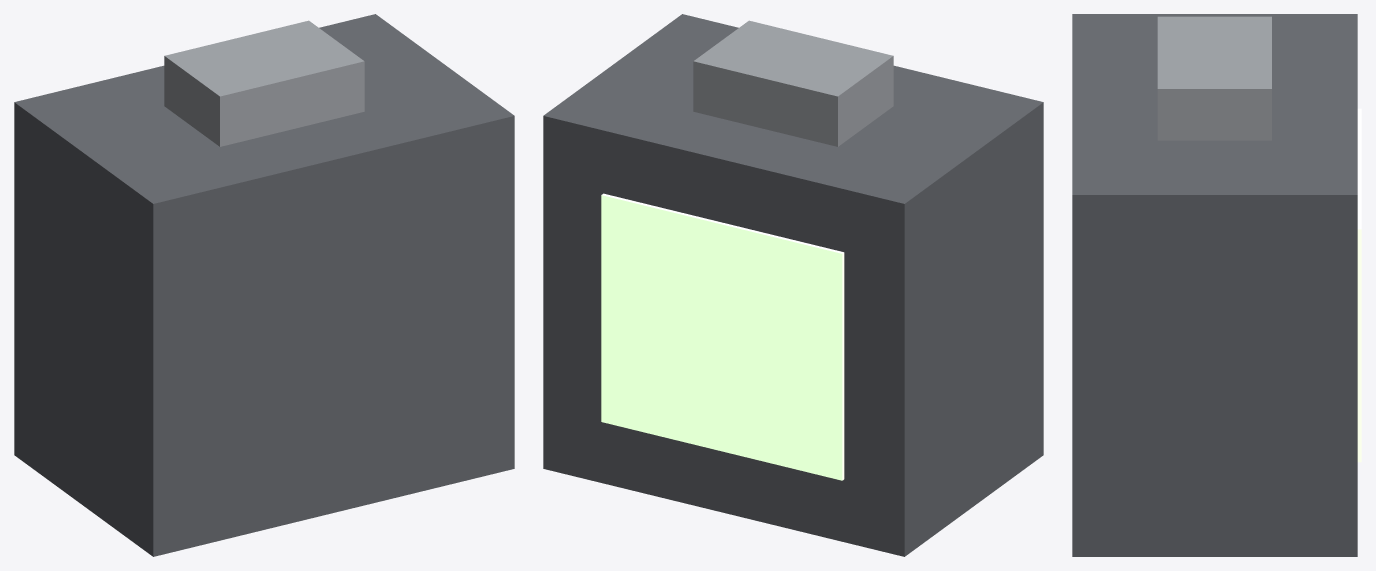
The model's file is ammo_cells.gltf.
3 views of the same model, side by side, from view 1: azimuth 30°, elevation 25°; view 2: azimuth 150°, elevation 25°; view 3: azimuth 270°, elevation 25° (orthographic). The views are drawn at different scales.
Visible parts, largest first — view 1: ammo_cells; view 2: ammo_cells; view 3: ammo_cells.
Boxes of the visible parts, <box> form: ammo_cells: <box>14,14,514,556</box>; ammo_cells: <box>543,14,1043,556</box>; ammo_cells: <box>1072,14,1361,556</box>.
Bounding box in the file's own units: 0.3 × 0.32 × 0.203.
